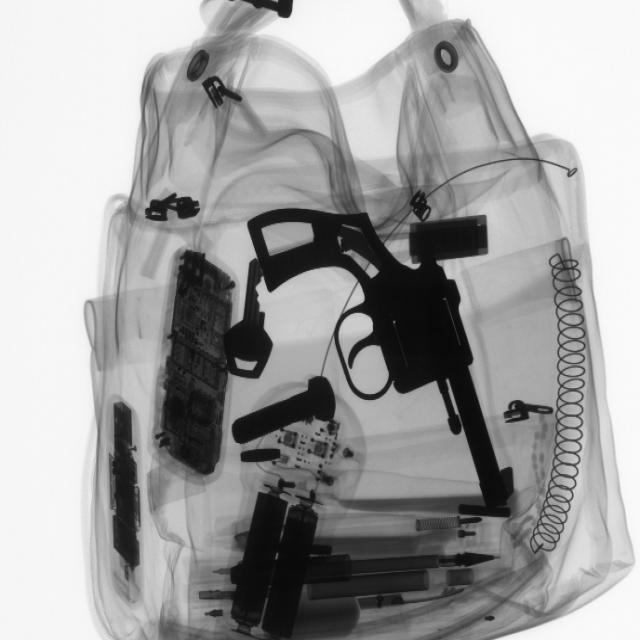GUN: (248, 205, 510, 517)
